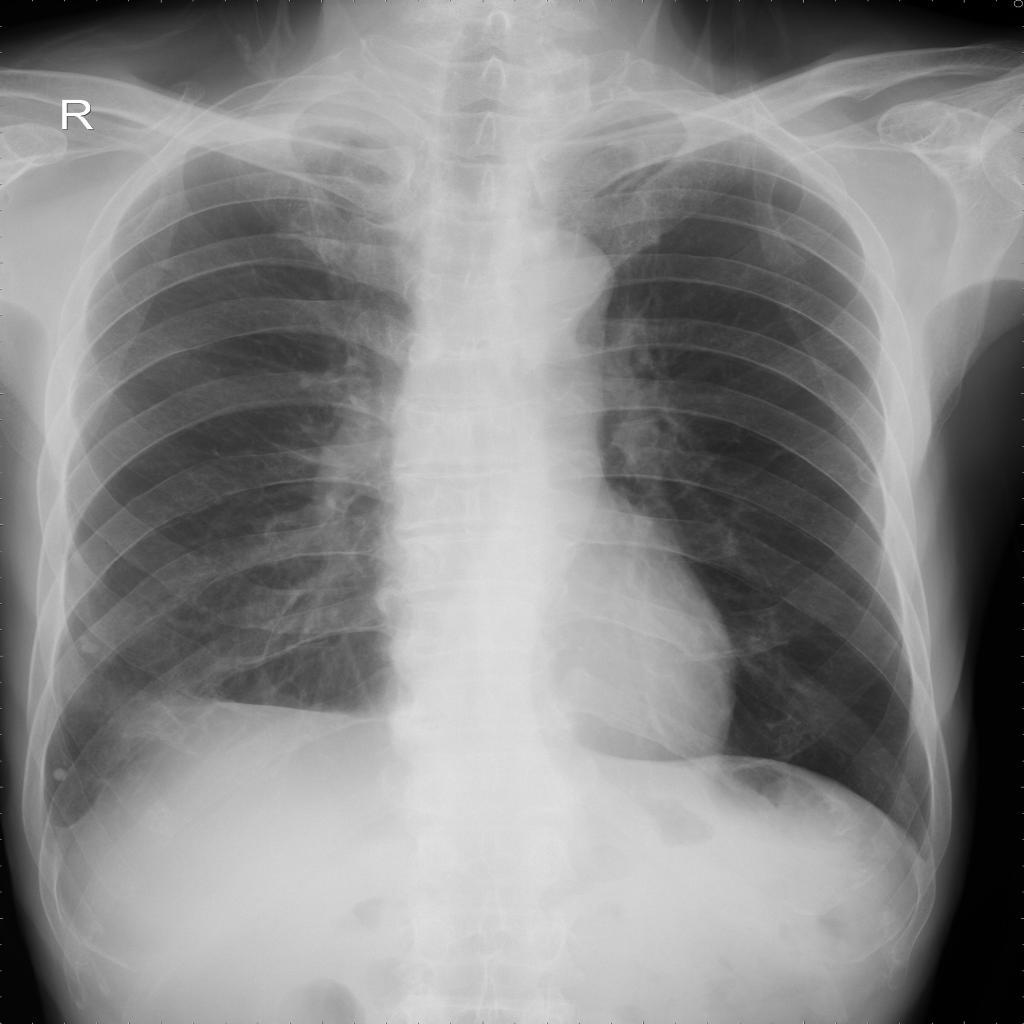Nodule: (77, 635, 100, 654), (49, 765, 69, 783)
